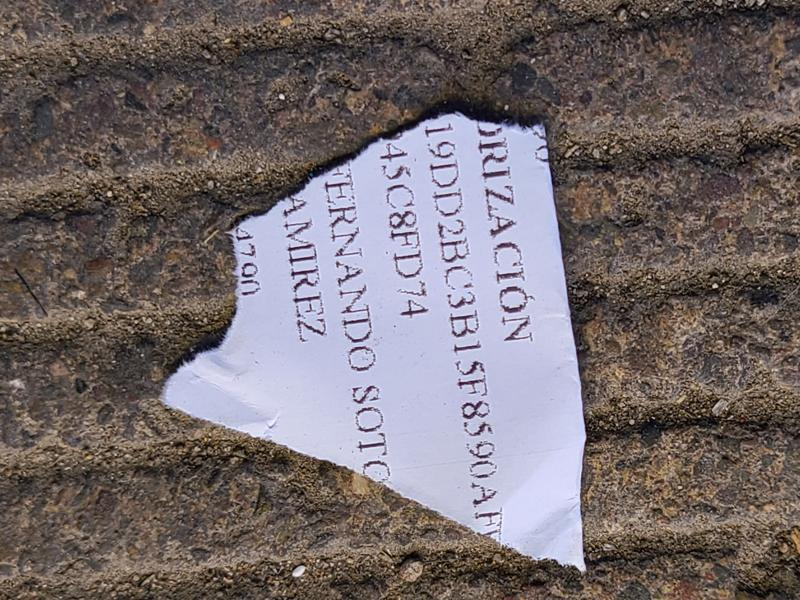papel: (159, 112, 587, 572)
